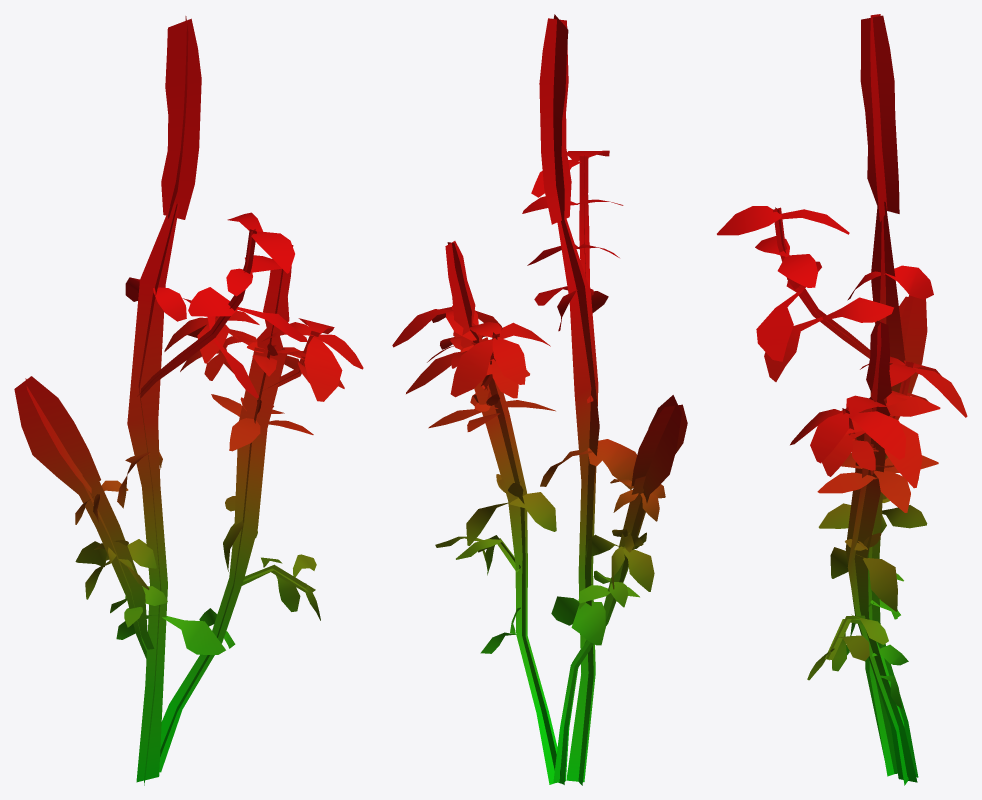
File: Var3_LOD1.fbx
3 renders of one model, left to right at view 1: azimuth 30°, elevation 25°; view 2: azimuth 150°, elevation 25°; view 3: azimuth 270°, elevation 25°, orthographic. The views are drawn at different scales.
Visible parts, largest first — view 1: _1acf_Var3_LOD1; view 2: _1acf_Var3_LOD1; view 3: _1acf_Var3_LOD1.
Boxes of the visible parts, x1,y1,x2,y2 form: _1acf_Var3_LOD1: [14, 16, 363, 785]; _1acf_Var3_LOD1: [392, 14, 687, 785]; _1acf_Var3_LOD1: [717, 14, 967, 785].
Size of the model in its own units: 27.2 by 65.37 by 19.09.
